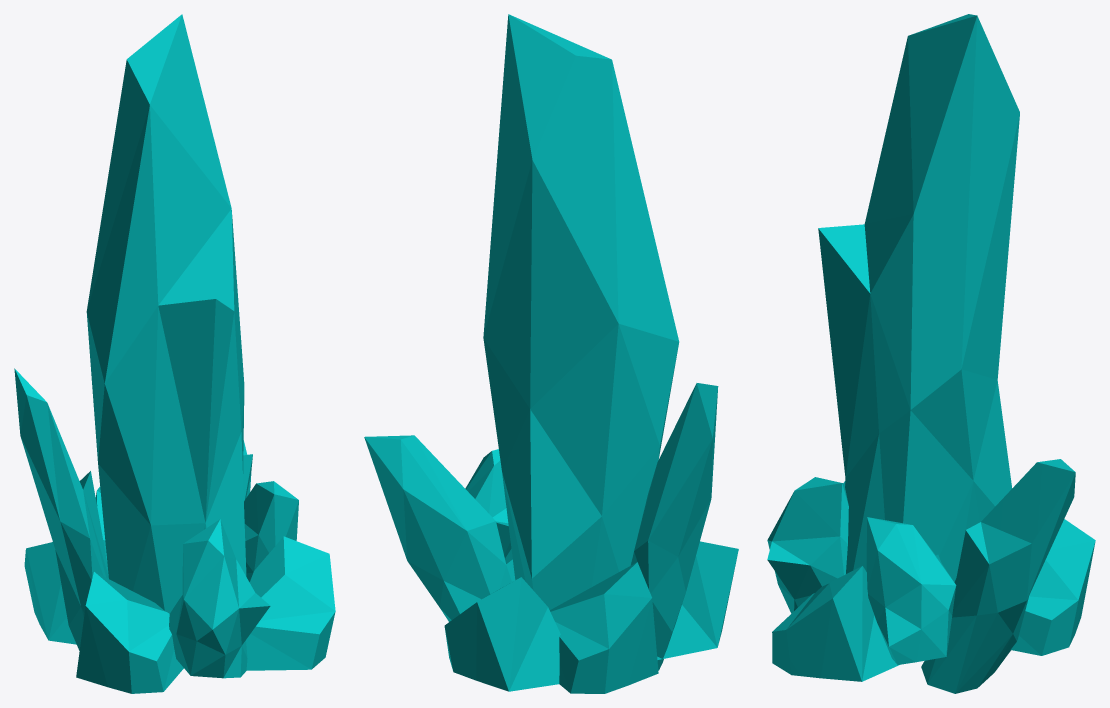
File: Crystal1.fbx
The picture shows the model from 3 angles, left to right: view 1: azimuth 30°, elevation 25°; view 2: azimuth 150°, elevation 25°; view 3: azimuth 270°, elevation 25°; orthographic projection. The views are drawn at different scales.
Parts seen in each view (by area): view 1: Cylinder; view 2: Cylinder; view 3: Cylinder.
Part boxes in pixels (x1,y1,x2,y2): Cylinder: (14,14,335,693); Cylinder: (364,14,738,693); Cylinder: (767,14,1095,693).
Bounding box in the file's own units: 124 × 276 × 125.
